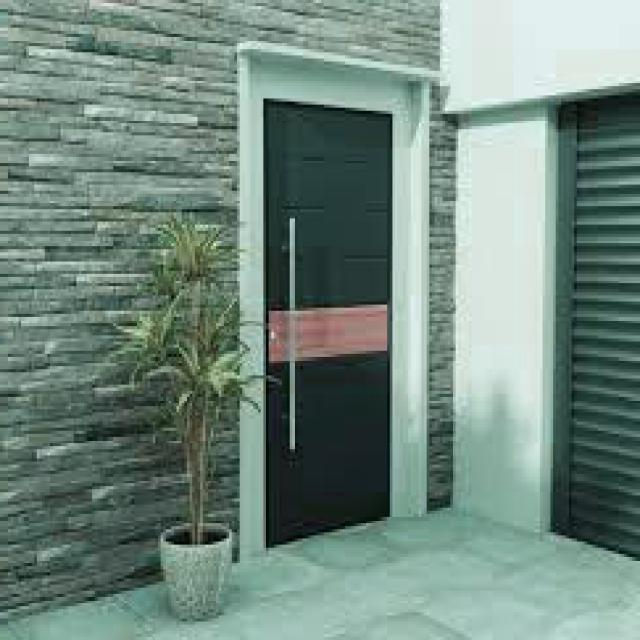door: (263, 99, 391, 546)
